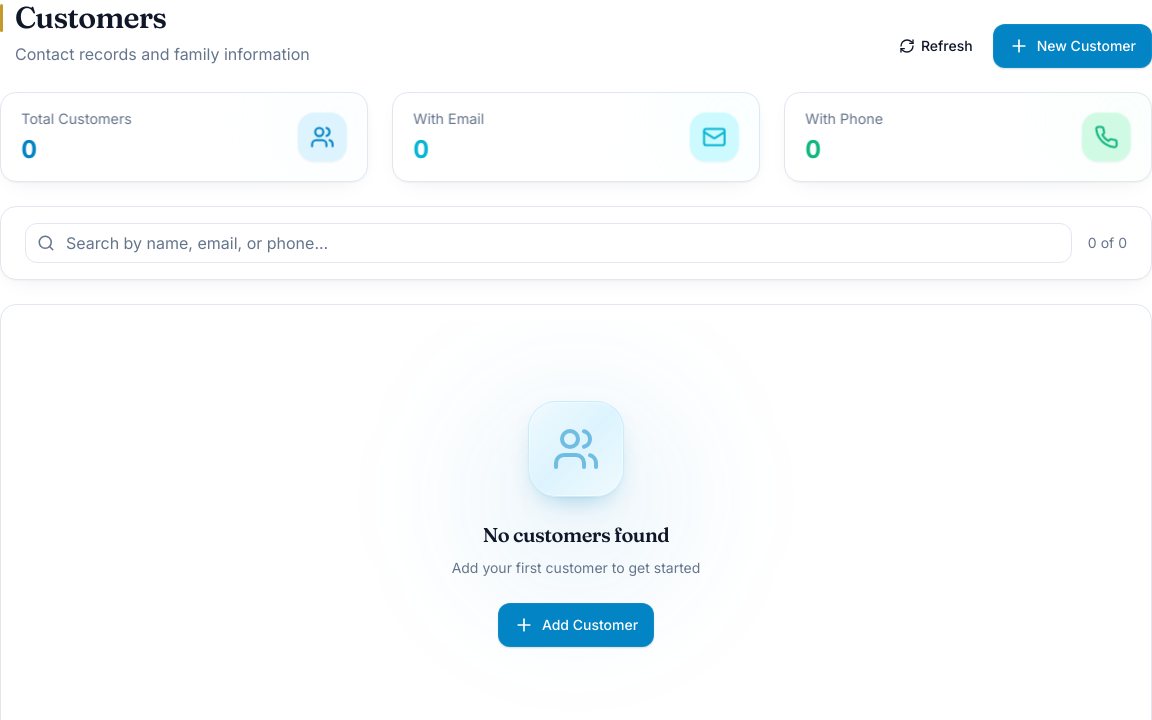
Test case: Customers page — modal state between sessions › opens clean from the empty state, not only from the header button
What coordinates should you click on to do the following:
click the button "Add Customer"
I would click on:
 (576, 625)
Its box is x1=498 y1=603 x2=654 y2=647.
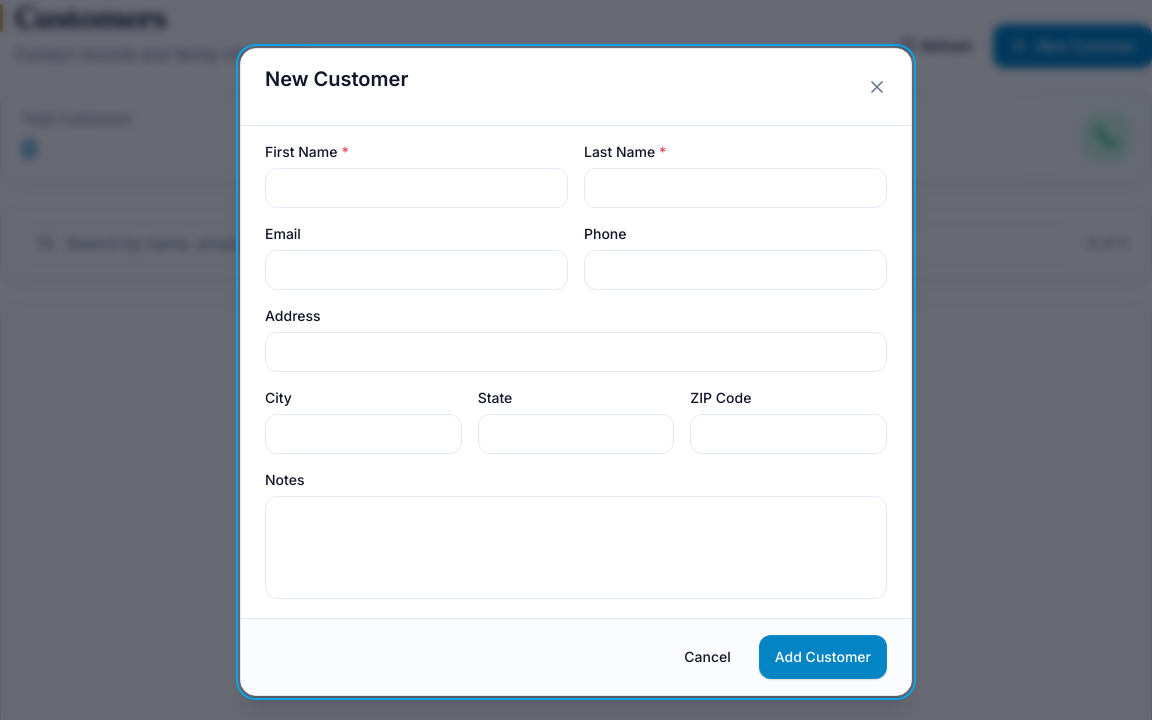
What coordinates should you click on to do the following:
click the button "Add Customer"
I would click on:
 (823, 657)
Its box is x1=759 y1=635 x2=887 y2=679.
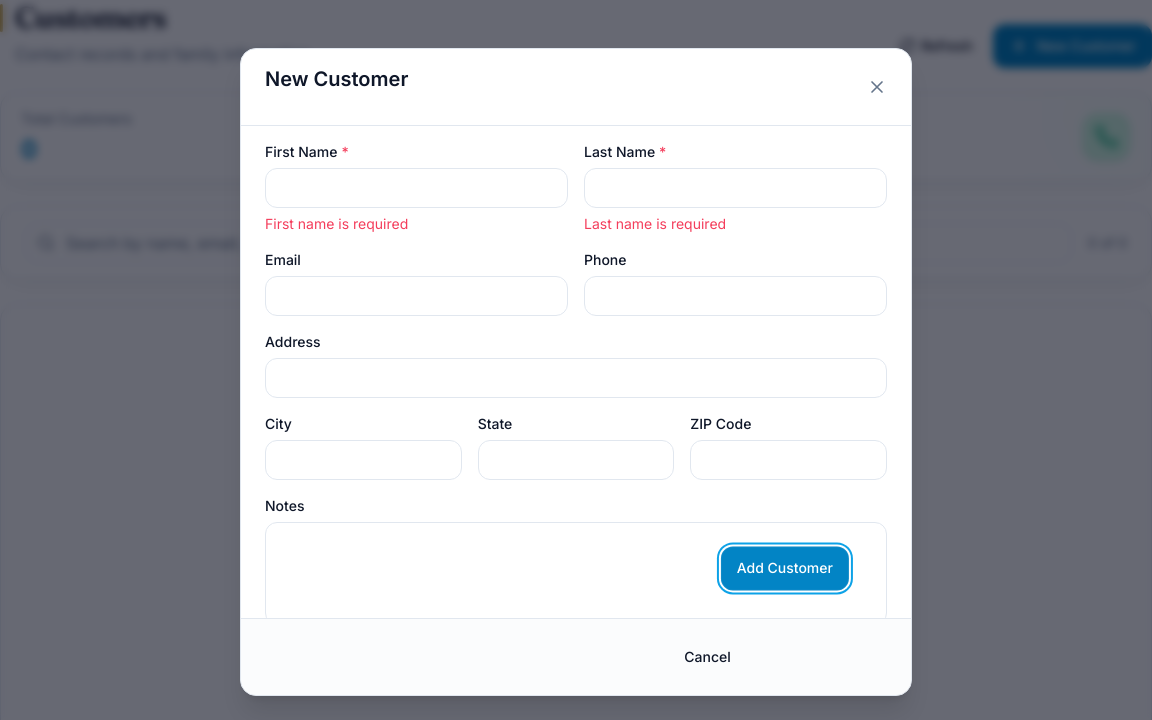
Expected: the text "First name is required" is shown, x1=265 y1=215 x2=408 y2=232
What coordinates should you click on to do the following:
click the button "Cancel"
I would click on:
 (708, 657)
Its box is x1=668 y1=635 x2=747 y2=679.
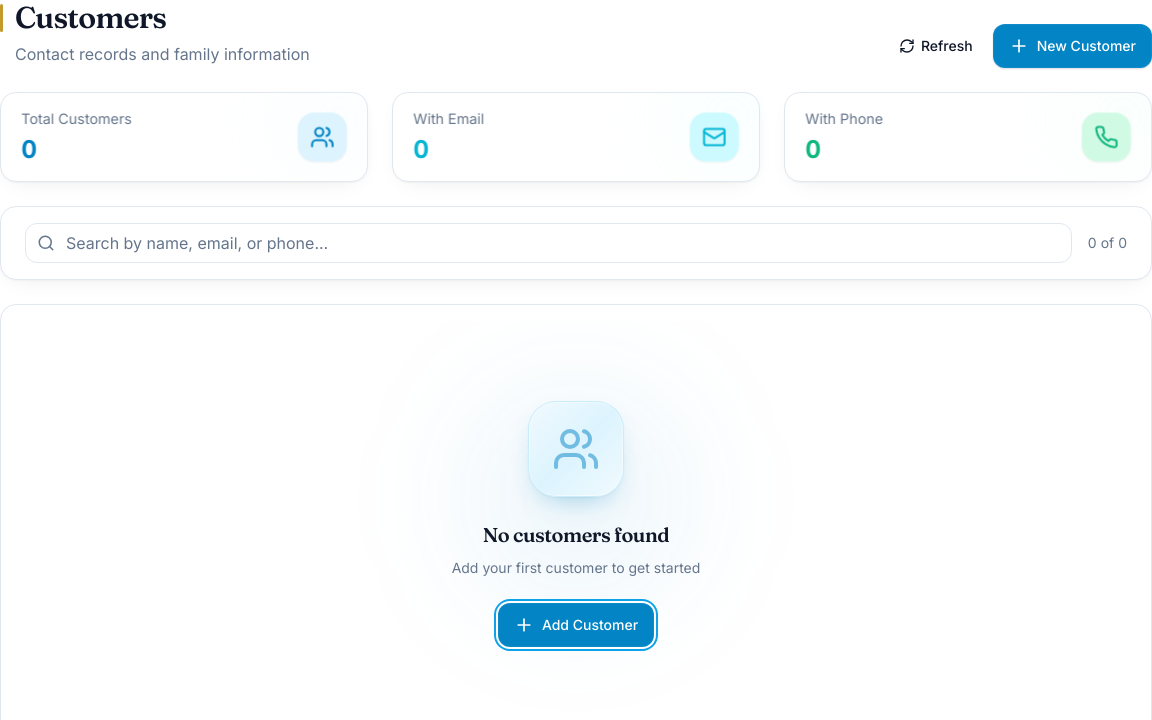
Expected: the dialog is gone
What coordinates should you click on to do the following:
click the button "Add Customer"
I would click on:
 (576, 625)
Its box is x1=498 y1=603 x2=654 y2=647.
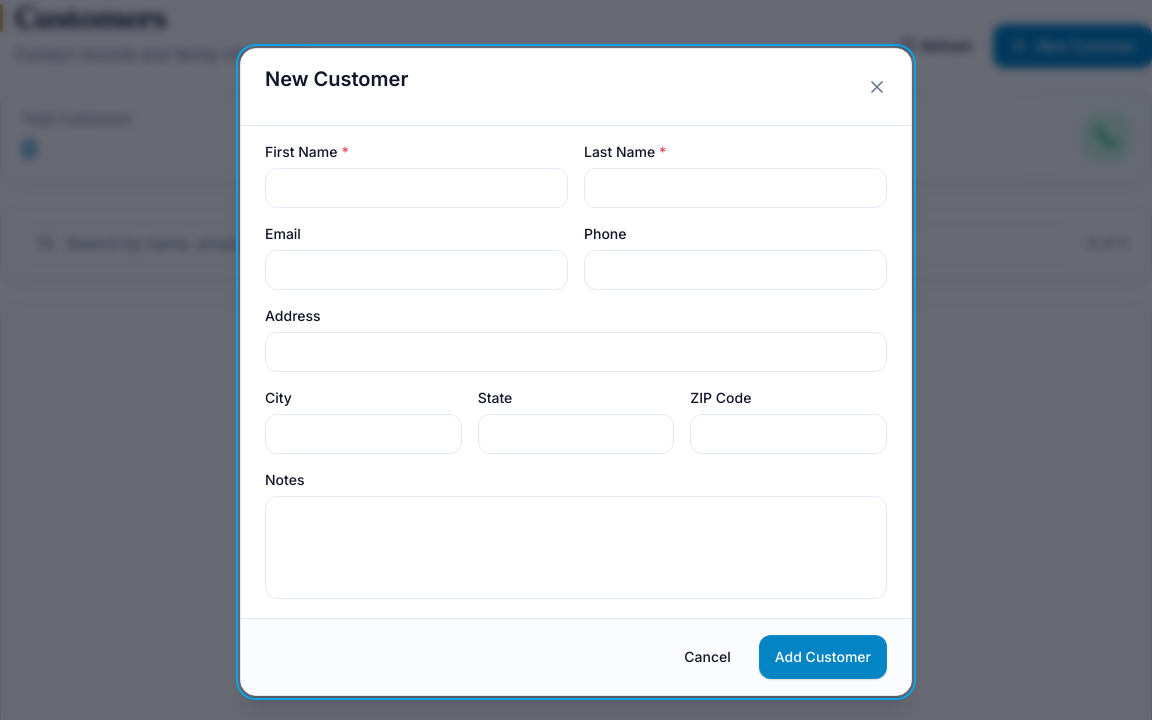
Expected: the text "First name is required" is not shown
Expected: the dialog is shown, x1=240 y1=48 x2=912 y2=696
